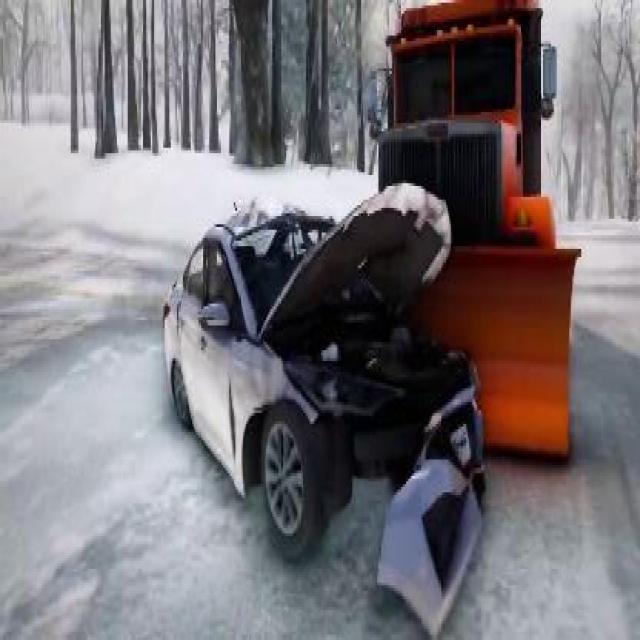accident: (156, 3, 586, 637)
